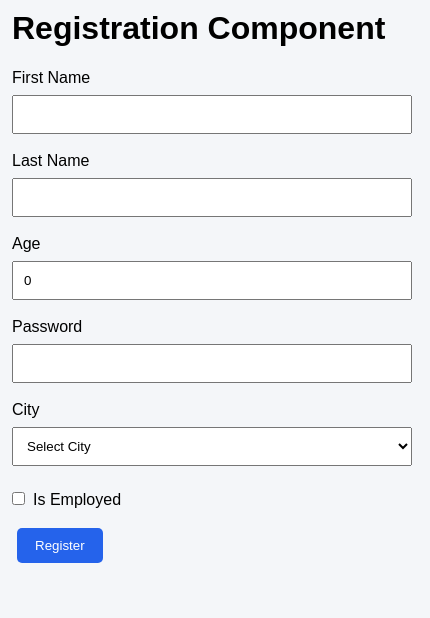
it: Registration Component › registration succeeds with valid data
The width and height of the screenshot is (430, 618).
Type "John" into the field labelled "First Name" at (212, 114), box x1=12 y1=95 x2=412 y2=134
Type "Smith" into the field labelled "Last Name" at (212, 197), box x1=12 y1=178 x2=412 y2=217
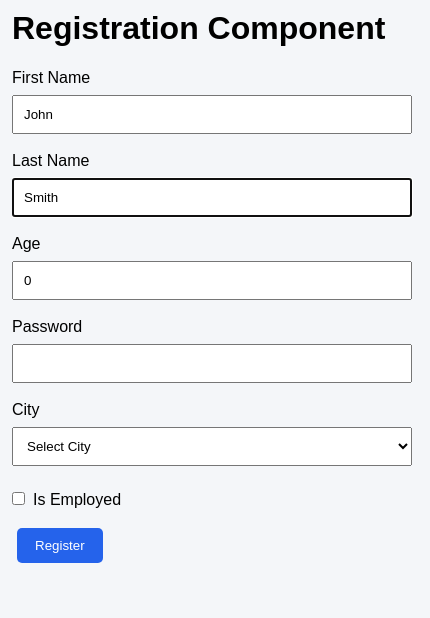
Replace the text in the number field labelled "Age" with "25" at (212, 280), box x1=12 y1=261 x2=412 y2=300
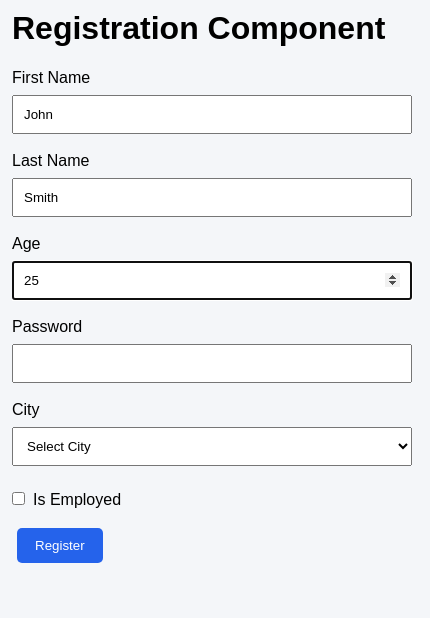
Type "Test@123" into the password field labelled "Password" at (212, 363), box x1=12 y1=344 x2=412 y2=383
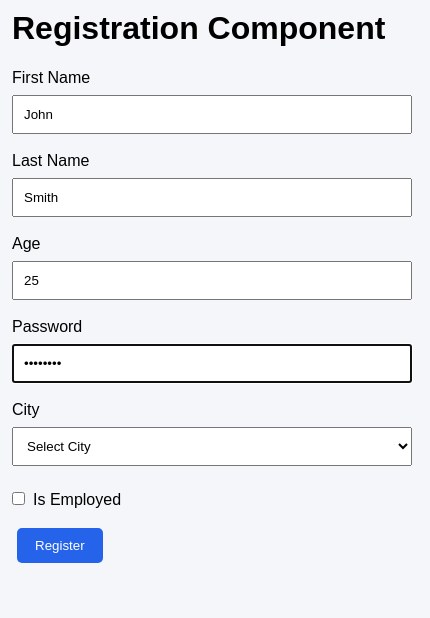
Select "LA" in the dropdown labelled "City" at (212, 446), box x1=12 y1=427 x2=412 y2=466
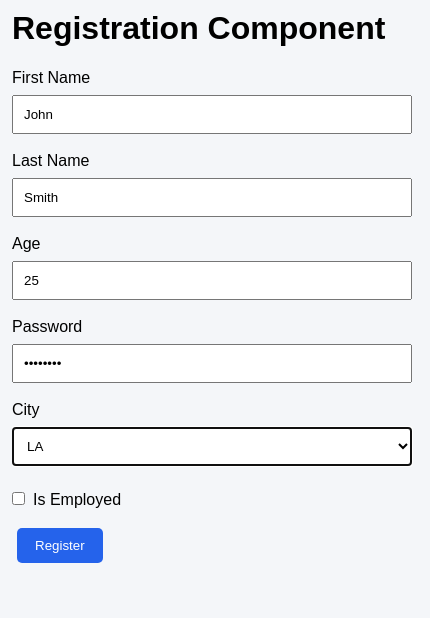
Click the checkbox labelled "Is Employed" at (18, 498), box x1=12 y1=492 x2=25 y2=505
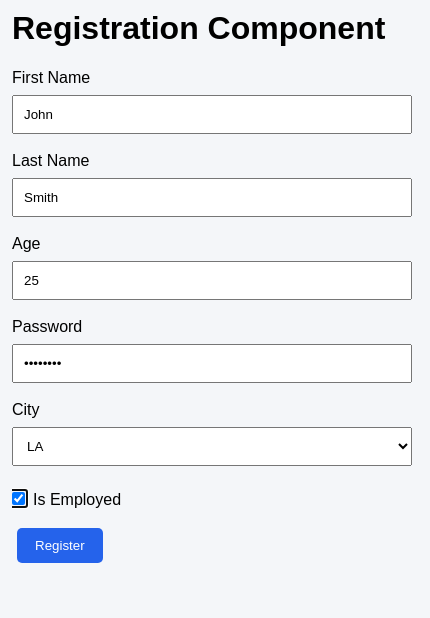
Expected: the checkbox labelled "Is Employed" is checked, x1=12 y1=492 x2=25 y2=505
Click the button "Register" at (60, 545), box x1=17 y1=528 x2=103 y2=563
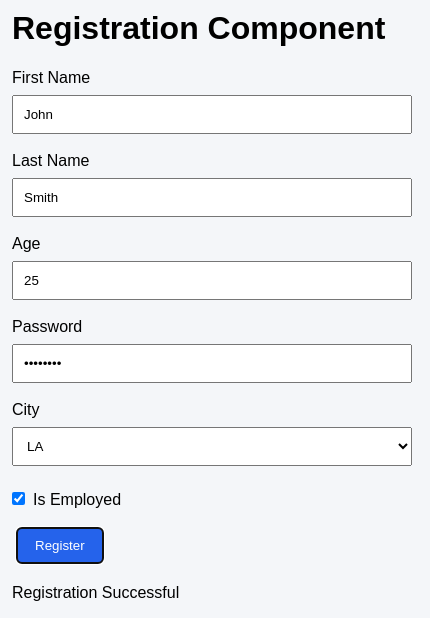
Expected: the text "Registration Successful" is shown, x1=12 y1=584 x2=179 y2=601
